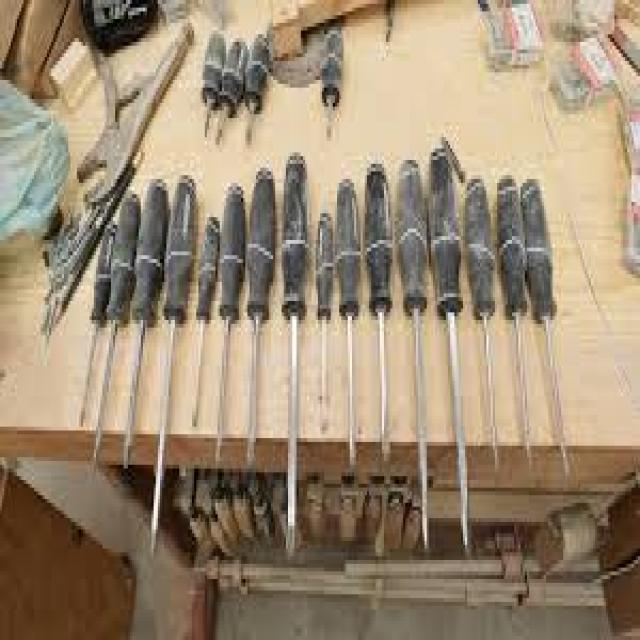screw driver: (395, 147, 452, 589), (268, 146, 308, 566), (330, 165, 362, 477), (308, 207, 339, 460)
